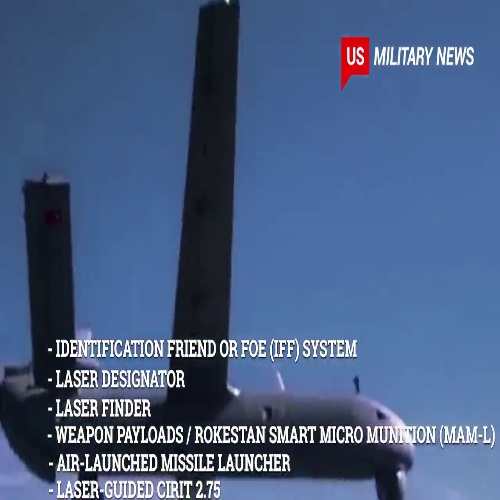uav: (7, 3, 420, 500)
